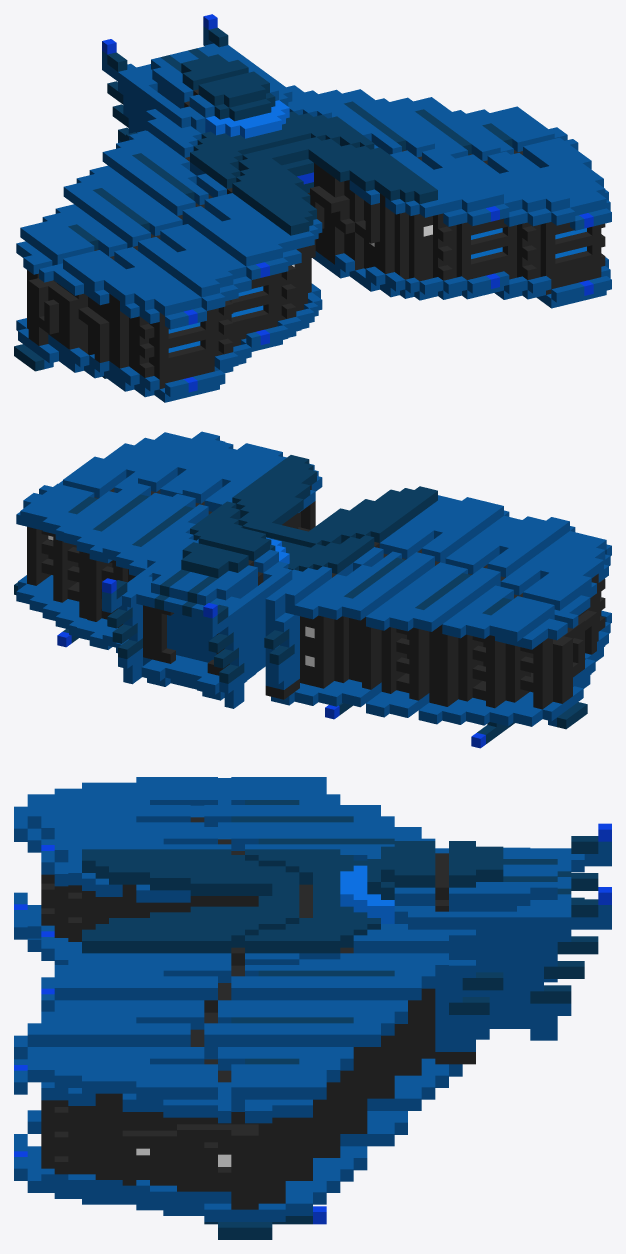
The model's file is Extra-11-UVintruder_Body.obj.
3 views of the same model, one above another, from view 1: azimuth 30°, elevation 25°; view 2: azimuth 150°, elevation 25°; view 3: azimuth 270°, elevation 25° (orthographic). The views are drawn at different scales.
Visible parts, largest first — view 1: UVintruder_Body; view 2: UVintruder_Body; view 3: UVintruder_Body.
Part boxes in pixels (x1=…): UVintruder_Body: x1=14, y1=14, x2=611, y2=402; UVintruder_Body: x1=14, y1=431, x2=611, y2=748; UVintruder_Body: x1=14, y1=777, x2=611, y2=1239.
Size of the model in its own units: 6 by 1.9 by 4.4.
Materials: 1 (1 with a texture image).
